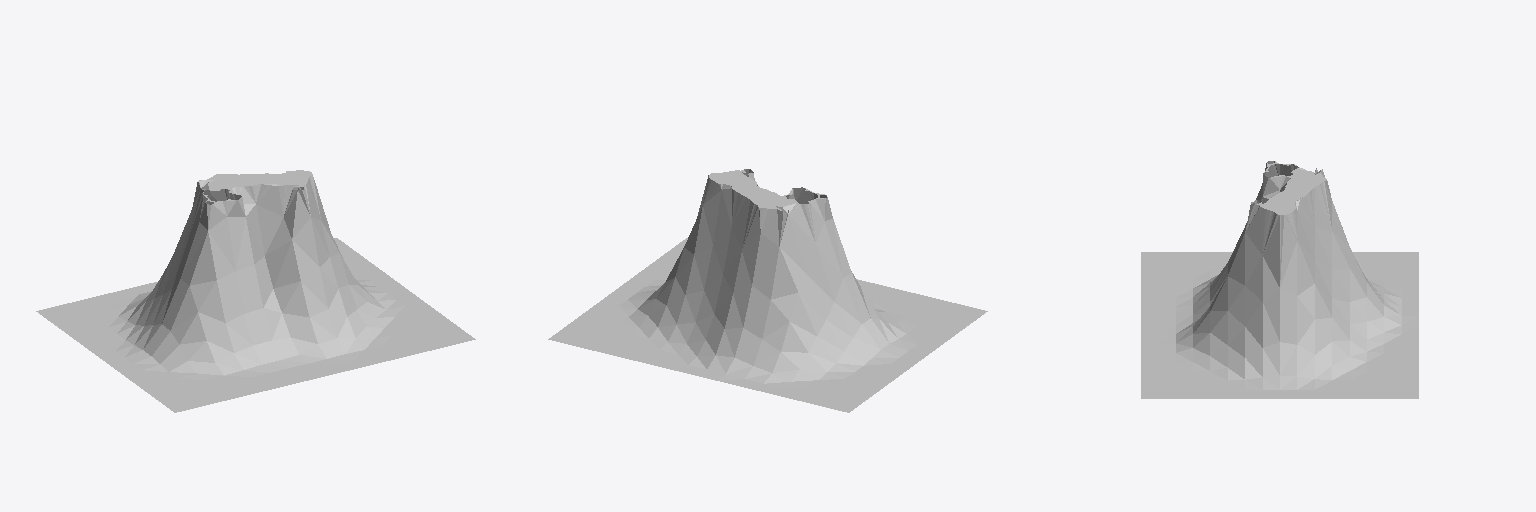
Rendered from foundationGround.obj.
3 views of the same model, side by side, from view 1: azimuth 30°, elevation 25°; view 2: azimuth 150°, elevation 25°; view 3: azimuth 270°, elevation 25° (orthographic).
Visible parts, largest first — view 1: Plane_Plane.002; view 2: Plane_Plane.002; view 3: Plane_Plane.002.
Part boxes in pixels (x1,y1,x2,y2): Plane_Plane.002: (36, 170, 475, 412); Plane_Plane.002: (548, 169, 987, 412); Plane_Plane.002: (1141, 161, 1418, 398).
Size of the model in its own units: 39.24 by 17.28 by 31.4.